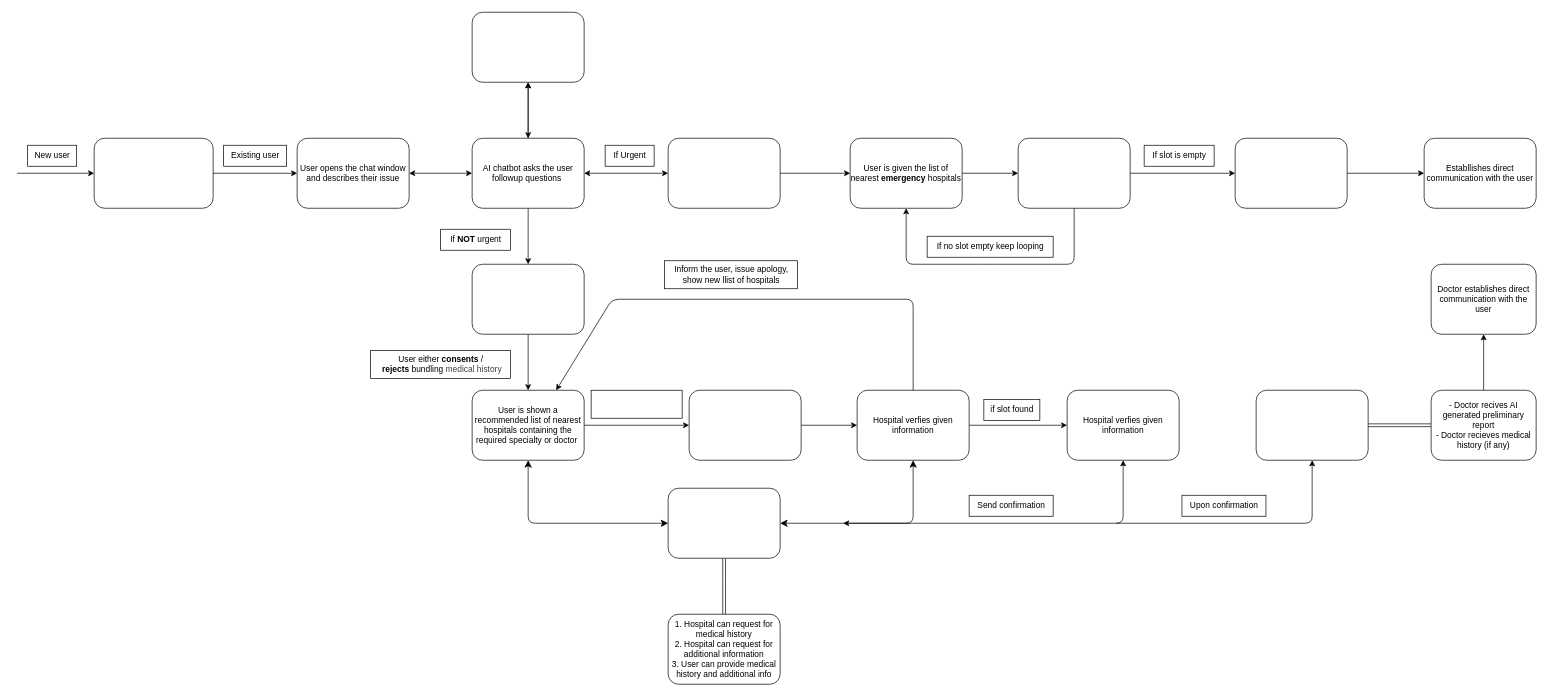
Image size: 1548x697. Some labels were removed from this diagram. The box of each missing label's shape, as (x1, y1, x2, y2) in pixels:
Chatbot finalises conversation starts the tool that makes the preliminary report: (471, 264, 584, 334)
Consults RAG database for urgency score and list of known symptoms: (471, 12, 584, 82)
Doctor is assigned: (1255, 390, 1368, 460)
Emergency ward verifies information, escalates further: (1234, 138, 1347, 208)
Hospital establishes direct coms to user via either chat or phone: (667, 488, 780, 558)
Hospital recives preliminary report: (688, 390, 801, 460)
If a high urgency score is dectected, notify user to escalate to emergency ward: (667, 138, 780, 208)
User can select one or more hospitals: (1017, 138, 1130, 208)
User chooses their preference: (590, 390, 682, 418)
User registers the app with their personal details and medical history: (93, 138, 213, 208)
